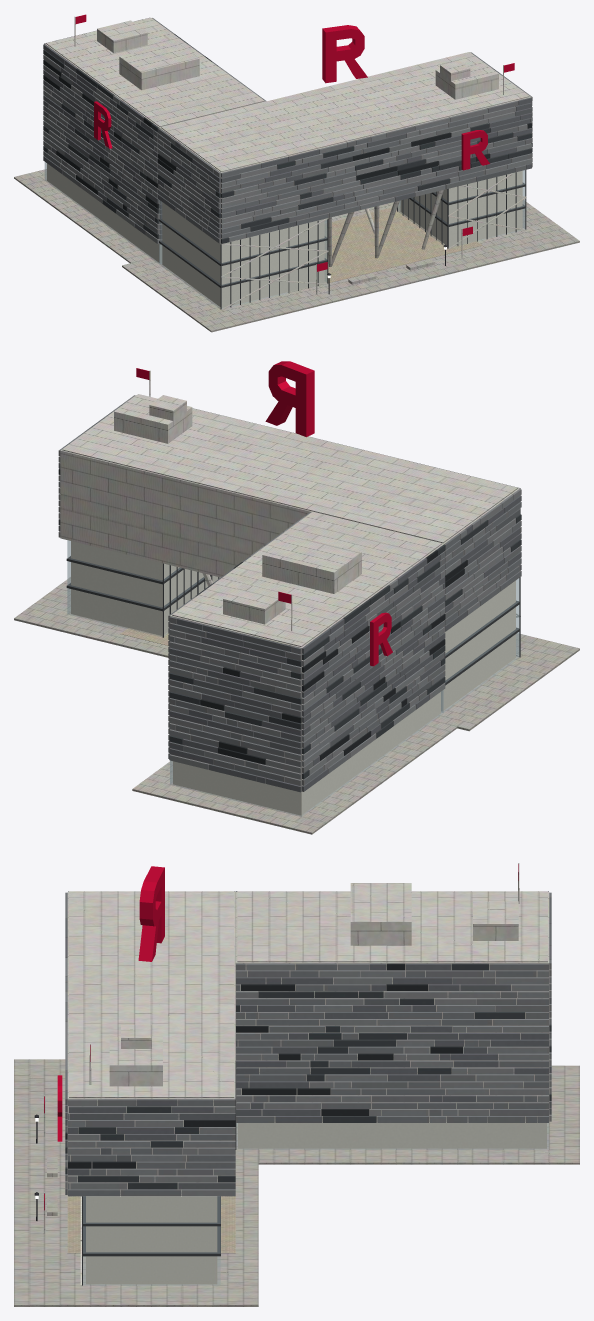
Rendered from rutgers_business.glb.
The picture shows the model from 3 angles, top to bottom: view 1: azimuth 30°, elevation 25°; view 2: azimuth 150°, elevation 25°; view 3: azimuth 270°, elevation 25°; orthographic projection. The views are drawn at different scales.
Visible parts, largest first — view 1: bs_white, bs_glass, bs_interior, bs_panel_1, bs_concrete, bs_panel_0, bs_panel_2, bs_path, bs_panel_3, bs_charcoal, bs_scarlet, bs_panel_4; view 2: bs_white, bs_panel_1, bs_glass, bs_interior, bs_panel_2, bs_panel_0, bs_concrete, bs_panel_3, bs_scarlet, bs_panel_4, bs_charcoal; view 3: bs_white, bs_concrete, bs_panel_1, bs_panel_0, bs_glass, bs_interior, bs_panel_2, bs_panel_3, bs_panel_4, bs_scarlet, bs_charcoal, bs_path.
Part boxes in pixels (x1=…): bs_white: x1=46, y1=16, x2=529, y2=309; bs_glass: x1=44, y1=162, x2=525, y2=308; bs_interior: x1=47, y1=163, x2=522, y2=307; bs_panel_1: x1=43, y1=17, x2=532, y2=244; bs_concrete: x1=14, y1=169, x2=579, y2=332; bs_panel_0: x1=43, y1=54, x2=532, y2=244; bs_panel_2: x1=43, y1=19, x2=532, y2=238; bs_path: x1=288, y1=205, x2=482, y2=292; bs_panel_3: x1=43, y1=34, x2=531, y2=243; bs_charcoal: x1=159, y1=170, x2=526, y2=309; bs_scarlet: x1=75, y1=14, x2=514, y2=271; bs_panel_4: x1=43, y1=56, x2=532, y2=211; bs_white: x1=62, y1=370, x2=520, y2=656; bs_panel_1: x1=58, y1=395, x2=521, y2=791; bs_glass: x1=67, y1=540, x2=519, y2=816; bs_interior: x1=71, y1=541, x2=515, y2=815; bs_panel_2: x1=58, y1=418, x2=521, y2=792; bs_panel_0: x1=58, y1=395, x2=521, y2=785; bs_concrete: x1=14, y1=577, x2=579, y2=834; bs_panel_3: x1=58, y1=514, x2=521, y2=779; bs_scarlet: x1=136, y1=361, x2=392, y2=666; bs_panel_4: x1=58, y1=468, x2=467, y2=764; bs_charcoal: x1=66, y1=556, x2=520, y2=685; bs_white: x1=44, y1=863, x2=547, y2=1285; bs_concrete: x1=14, y1=1059, x2=579, y2=1306; bs_panel_1: x1=65, y1=891, x2=551, y2=1196; bs_panel_0: x1=65, y1=891, x2=551, y2=1196; bs_glass: x1=83, y1=1122, x2=548, y2=1285; bs_interior: x1=86, y1=1122, x2=546, y2=1284; bs_panel_2: x1=65, y1=891, x2=551, y2=1194; bs_panel_3: x1=65, y1=891, x2=551, y2=1189; bs_panel_4: x1=65, y1=963, x2=462, y2=1168; bs_scarlet: x1=44, y1=864, x2=518, y2=1210; bs_charcoal: x1=82, y1=1061, x2=236, y2=1285; bs_path: x1=67, y1=1196, x2=235, y2=1253.
Size of the model in its own units: 24.32 by 14.07 by 23.68.
16 materials, 11 textured.
